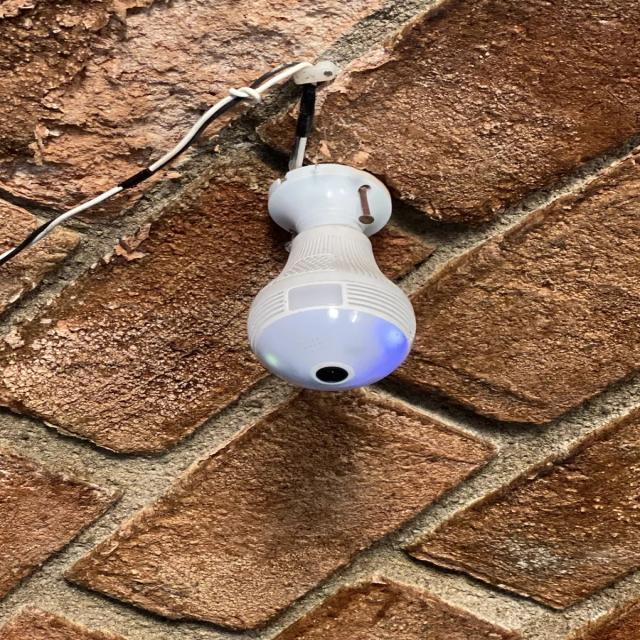hidden camera: (315, 366, 350, 383)
